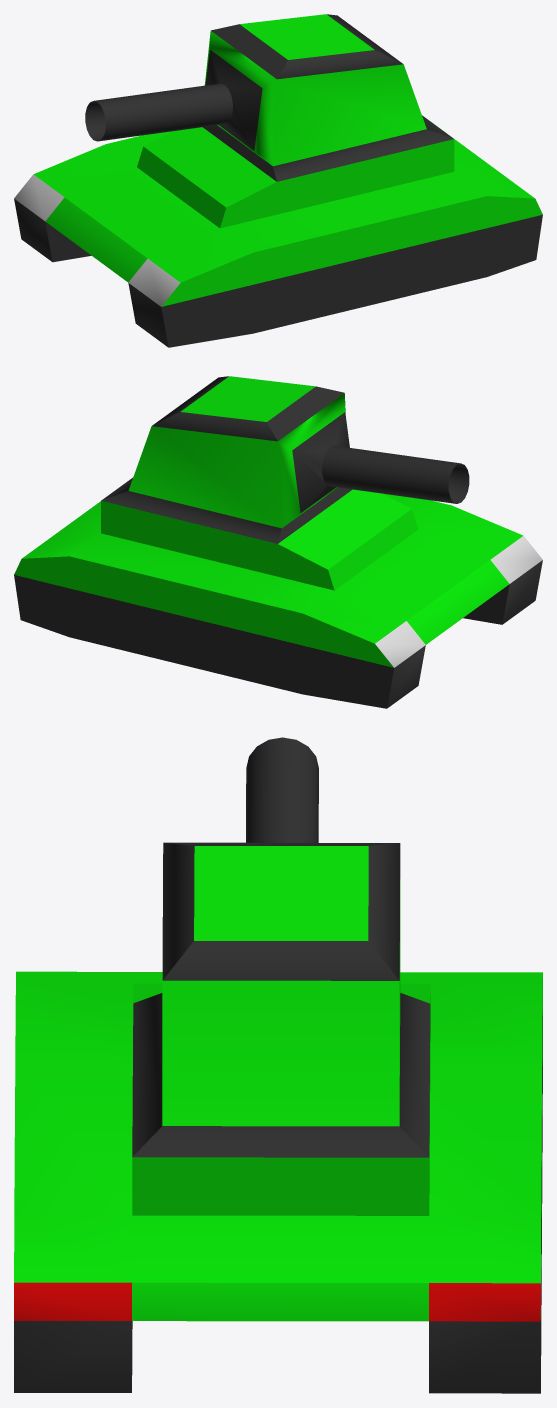
Rendered from WarHeavyGreen.fbx.
3 renders of one model, top to bottom at view 1: azimuth 30°, elevation 25°; view 2: azimuth 150°, elevation 25°; view 3: azimuth 270°, elevation 25°, orthographic. The views are drawn at different scales.
Parts seen in each view (by area): view 1: pCylinder2; view 2: pCylinder2; view 3: pCylinder2.
Boxes of the visible parts, box(x1,y1,x2,y2) form: pCylinder2: box(14, 14, 542, 347); pCylinder2: box(14, 376, 542, 708); pCylinder2: box(14, 737, 542, 1393).
Bounding box in the file's own units: 7.48 × 4.05 × 5.04.
